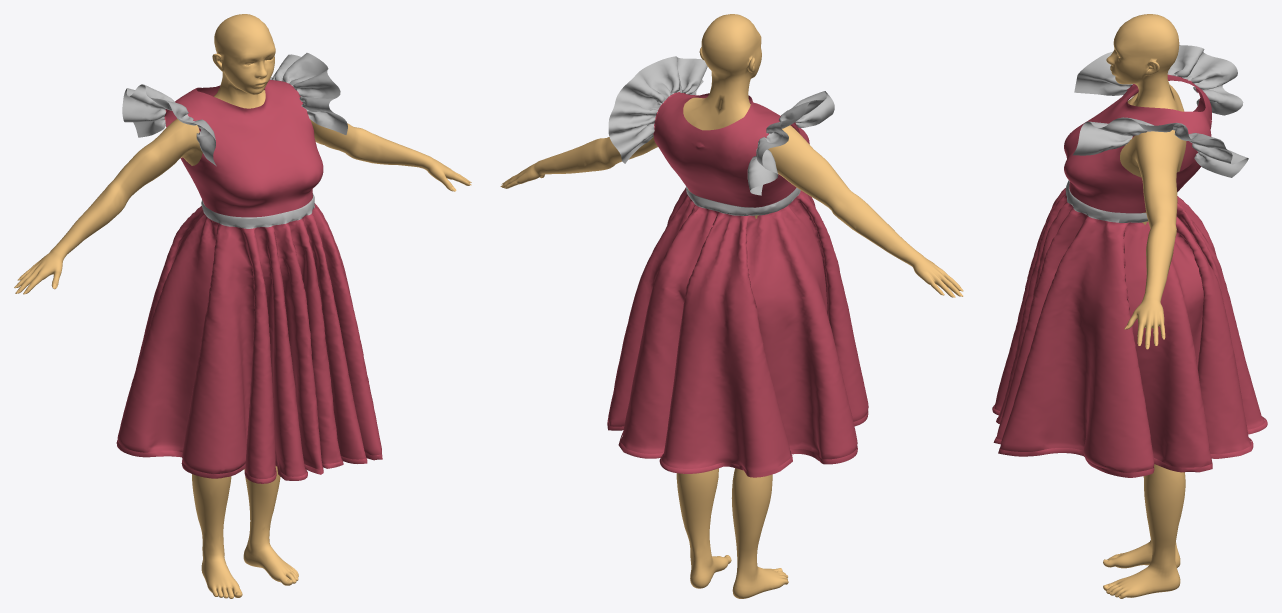
File: dress4.glb
3 renders of one model, left to right at view 1: azimuth 30°, elevation 25°; view 2: azimuth 150°, elevation 25°; view 3: azimuth 270°, elevation 25°, orthographic.
Parts seen in each view (by area): view 1: PinkDrees#14 (OBJ), Body.003; view 2: PinkDrees#14 (OBJ), Body.003; view 3: PinkDrees#14 (OBJ), Body.003.
Part boxes in pixels (left/top/right/bottom): PinkDrees#14 (OBJ): left=116, top=53, right=382, bottom=483; Body.003: left=16, top=14, right=471, bottom=598; PinkDrees#14 (OBJ): left=607, top=56, right=868, bottom=477; Body.003: left=502, top=14, right=960, bottom=598; PinkDrees#14 (OBJ): left=992, top=45, right=1267, bottom=477; Body.003: left=1103, top=14, right=1186, bottom=598.
Bounding box in the file's own units: 1.58 × 1.85 × 0.8197.
